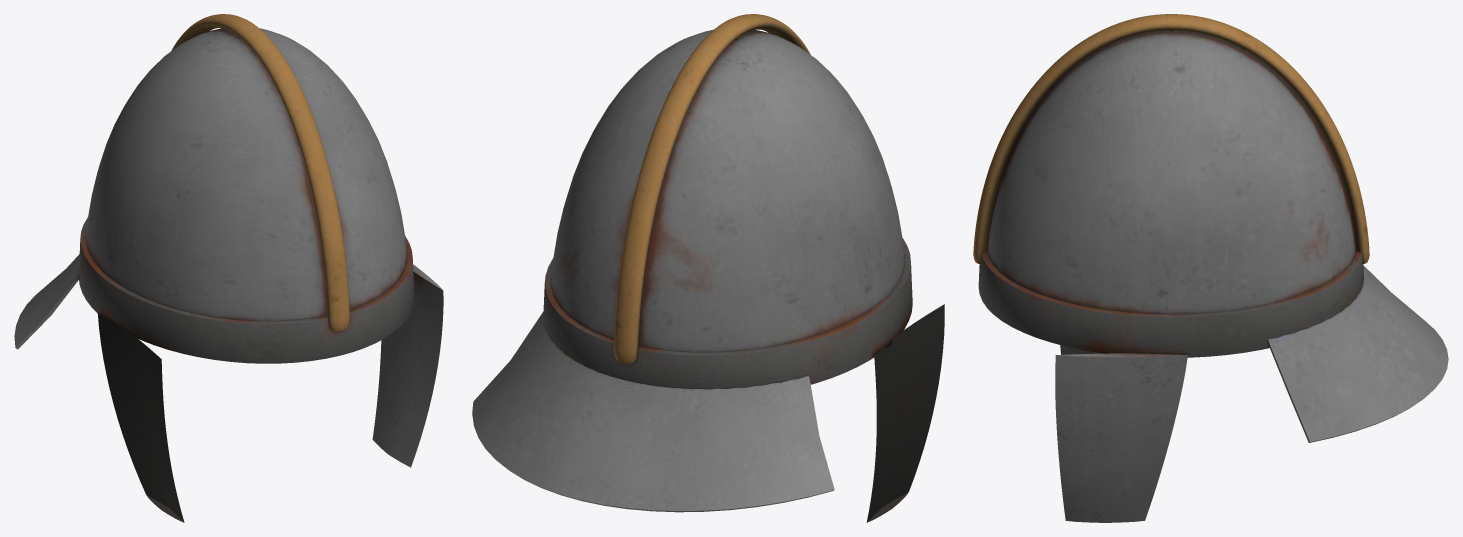
File: ridge_helmet.glb
The picture shows the model from 3 angles, left to right: view 1: azimuth 30°, elevation 25°; view 2: azimuth 150°, elevation 25°; view 3: azimuth 270°, elevation 25°; orthographic projection. The views are drawn at different scales.
Visible parts, largest first — view 1: ridge_helmet; view 2: ridge_helmet; view 3: ridge_helmet.
Boxes of the visible parts, left/top/right/bottom form: ridge_helmet: left=14, top=14, right=443, bottom=522; ridge_helmet: left=472, top=14, right=944, bottom=522; ridge_helmet: left=973, top=14, right=1448, bottom=522.
Size of the model in its own units: 0.2369 by 0.299 by 0.2876.
Materials: 1 (1 with a texture image).
